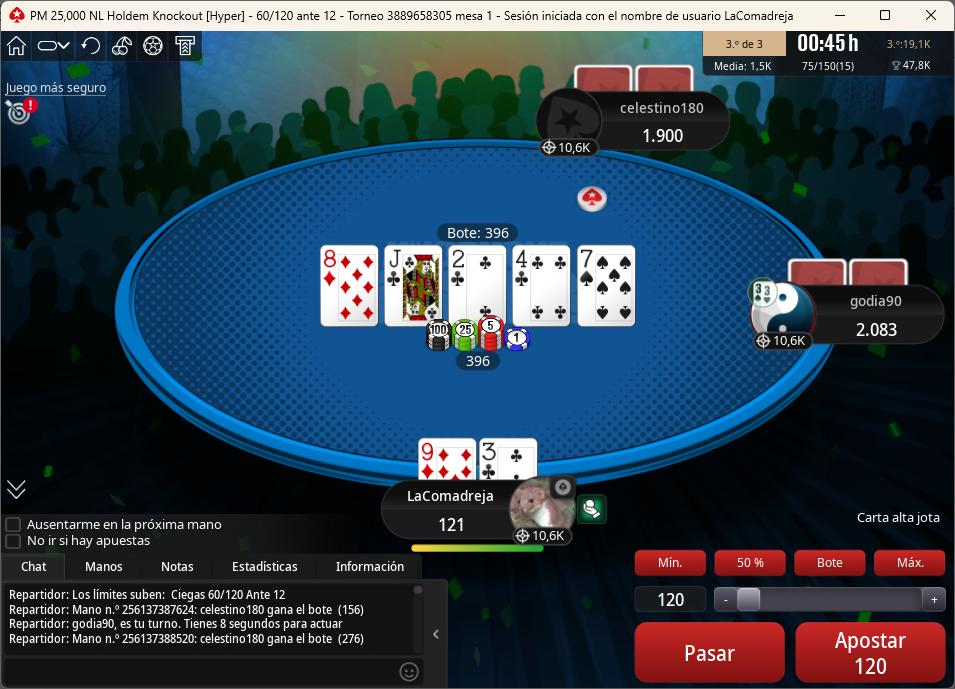ButtonCall: (628, 614, 784, 684)
ButtonMaxRaise: (872, 549, 949, 580)
ButtonMinRaise: (633, 548, 711, 580)
ButtonPotRaise: (791, 543, 868, 580)
ButtonRaise: (792, 618, 947, 684)
Dealer: (575, 180, 614, 215)
HiddenCards: (575, 67, 701, 95), (787, 259, 913, 286)
Player: (745, 284, 950, 353), (544, 90, 733, 158)
PlayerChips: (847, 322, 906, 342)
Pot: (435, 223, 520, 243)
PrincipalCards: (413, 438, 541, 484)
PrincipalCards1: (415, 435, 479, 484)
PrincipalCards2: (478, 437, 541, 484)
PrincipalPlayer: (386, 475, 588, 552)
PrincipalPlayerChips: (432, 517, 474, 537)
ShowedCards: (317, 242, 650, 334)
ShowedCards1: (319, 241, 380, 330)
ShowedCards2: (381, 243, 445, 331)
ShowedCards3: (446, 244, 510, 328)
ShowedCards4: (512, 242, 571, 326)
ShowedCards5: (575, 244, 637, 328)
SmallBigBlind: (248, 4, 346, 27)
TablePot: (418, 315, 546, 381)
